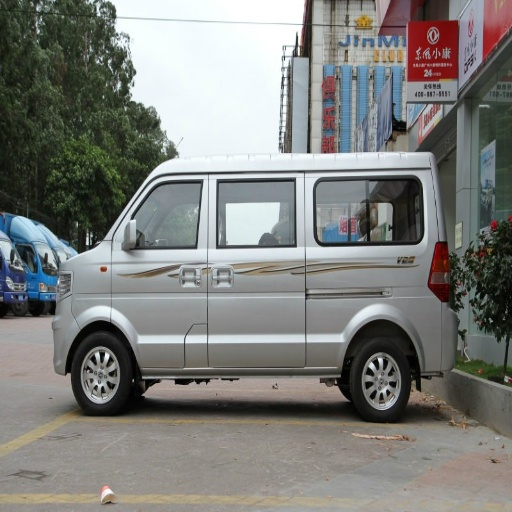back_left_door: (211, 177, 294, 261)
trunk: (229, 264, 436, 368)
